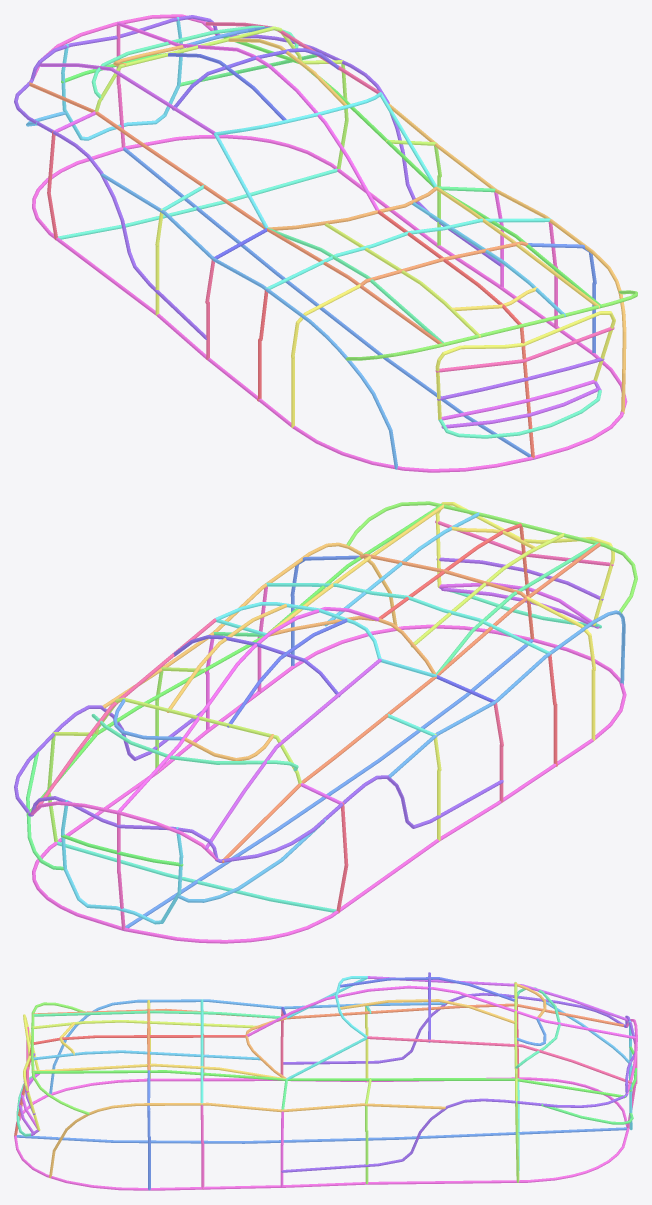
The model's file is t2f_car_97.gltf.
3 renders of one model, top to bottom at view 1: azimuth 30°, elevation 25°; view 2: azimuth 150°, elevation 25°; view 3: azimuth 270°, elevation 25°, orthographic. The views are drawn at different scales.
Size of the model in its own units: 0.3795 by 0.2503 by 0.8972.
